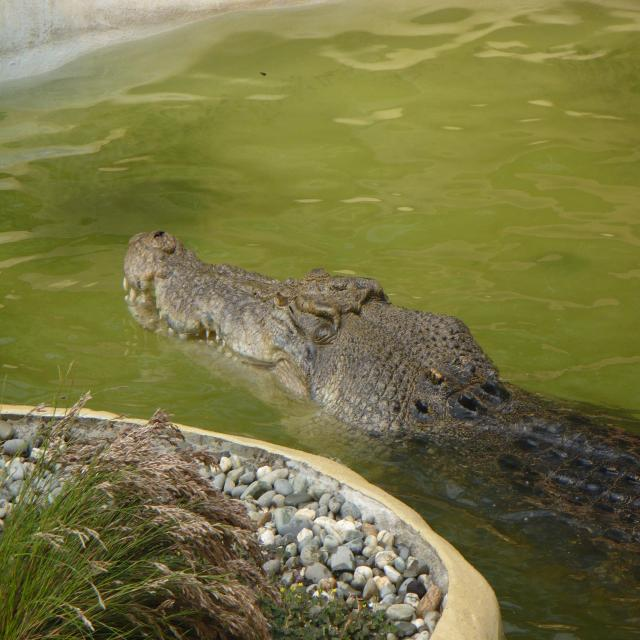crocodile: (101, 205, 640, 619)
